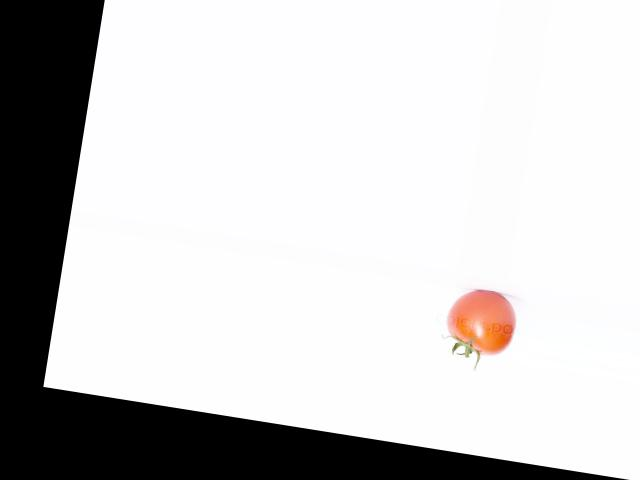tomato: (443, 286, 520, 359)
